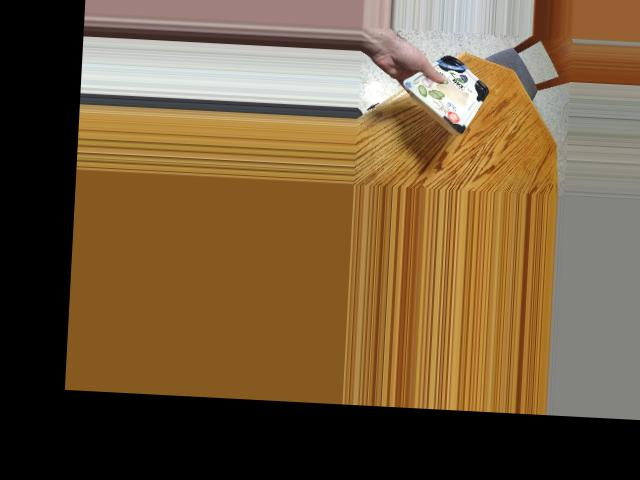cheese: (411, 61, 491, 130)
